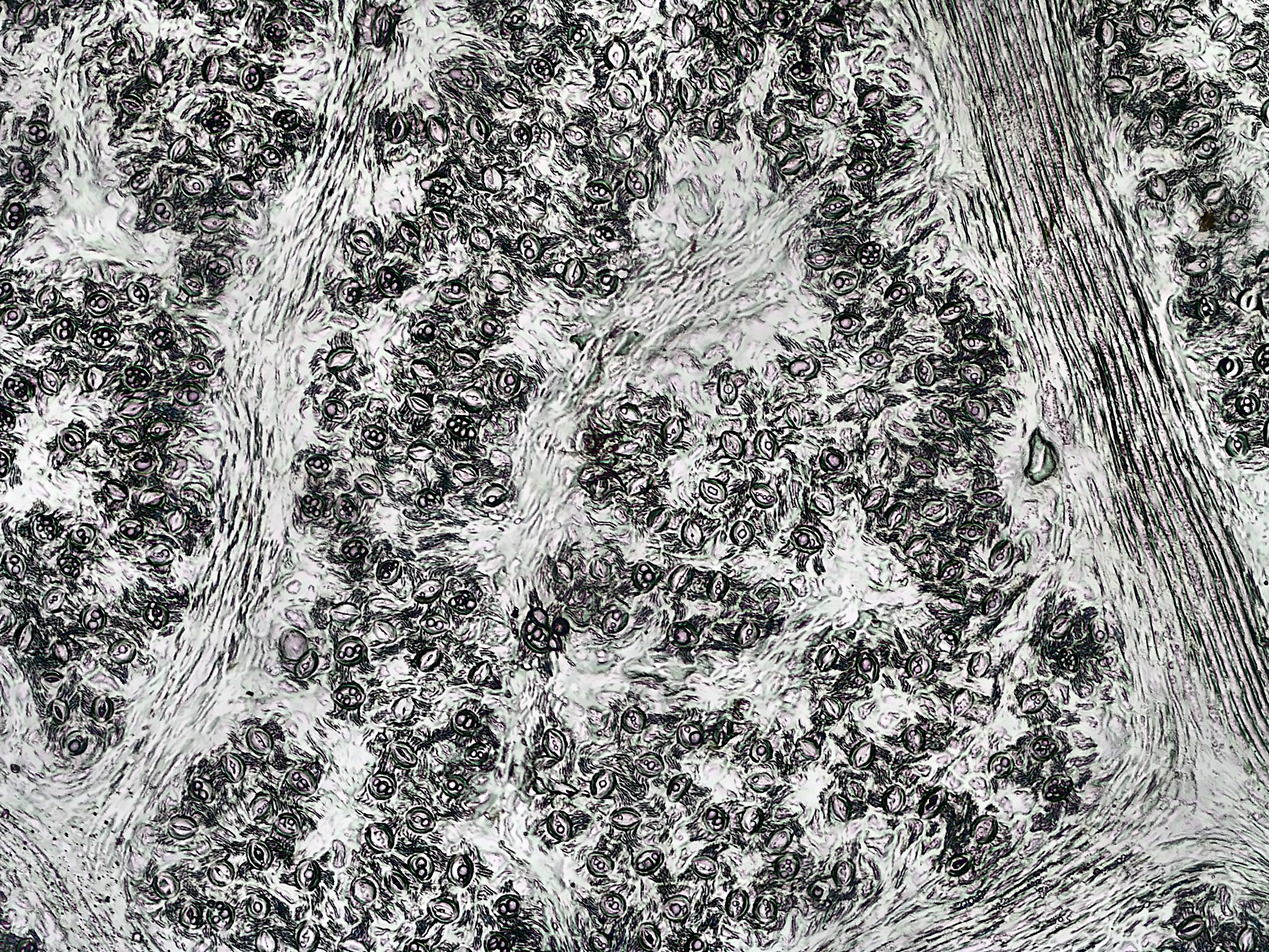stomata: (334, 636, 366, 667), (447, 852, 474, 887), (330, 682, 363, 710), (789, 527, 823, 554), (78, 603, 107, 634), (375, 267, 403, 299), (87, 324, 120, 351), (293, 859, 320, 892), (426, 897, 460, 923), (672, 13, 697, 48), (364, 822, 393, 852), (633, 847, 664, 875), (603, 38, 630, 70), (285, 767, 317, 794), (919, 787, 946, 819), (246, 838, 272, 871), (608, 807, 642, 832), (643, 103, 671, 133), (332, 494, 360, 524), (831, 312, 866, 336), (121, 364, 152, 391), (546, 810, 573, 841), (1043, 774, 1074, 801), (84, 291, 113, 319), (406, 853, 435, 881), (1209, 12, 1237, 41), (590, 769, 617, 799), (855, 241, 885, 268), (516, 234, 542, 265), (820, 194, 852, 219), (815, 16, 848, 40), (58, 427, 86, 455), (526, 56, 554, 84), (207, 859, 235, 887), (367, 773, 396, 800), (451, 708, 480, 735), (970, 815, 997, 844), (905, 652, 935, 678), (438, 279, 469, 304), (855, 386, 880, 417), (582, 179, 614, 203), (725, 888, 749, 920), (902, 724, 926, 756), (753, 428, 777, 460), (458, 385, 486, 412), (372, 5, 390, 47), (246, 728, 273, 756), (663, 895, 690, 923), (10, 156, 36, 185), (340, 536, 369, 562), (496, 367, 521, 397), (301, 491, 326, 521), (634, 752, 664, 777), (855, 653, 880, 683), (859, 348, 893, 370), (425, 115, 449, 146), (809, 88, 833, 119), (173, 382, 205, 405), (508, 119, 531, 151), (959, 333, 991, 356), (846, 157, 878, 180), (1229, 46, 1261, 69), (48, 316, 76, 342), (30, 513, 56, 541), (153, 872, 181, 898), (389, 742, 417, 768), (703, 805, 729, 833), (406, 807, 434, 833), (204, 902, 232, 928), (677, 722, 705, 748), (563, 256, 585, 289), (593, 268, 618, 297), (416, 488, 445, 513), (293, 650, 318, 679), (586, 851, 615, 876), (1029, 736, 1058, 761), (1160, 66, 1189, 91), (326, 347, 356, 371), (167, 814, 197, 838), (850, 740, 874, 770), (698, 479, 728, 503), (827, 271, 857, 295), (385, 112, 408, 143), (669, 563, 692, 594), (989, 540, 1012, 571), (35, 368, 61, 395), (752, 896, 778, 923), (108, 638, 136, 663), (491, 893, 519, 918), (826, 794, 851, 822), (735, 621, 760, 649), (884, 282, 912, 307), (186, 353, 215, 377), (563, 123, 592, 147), (690, 854, 719, 878), (881, 784, 905, 813), (763, 828, 792, 852), (1176, 916, 1205, 940), (1190, 136, 1219, 160), (328, 602, 361, 623), (1095, 16, 1116, 49), (950, 688, 973, 718), (667, 620, 697, 643), (936, 301, 966, 324), (803, 248, 834, 270), (1179, 116, 1213, 136), (245, 892, 271, 918), (145, 601, 170, 628), (414, 647, 441, 672), (619, 706, 644, 733), (382, 869, 409, 894), (774, 854, 799, 881), (920, 499, 947, 524), (859, 84, 884, 111), (206, 254, 234, 278), (226, 176, 254, 200), (625, 170, 649, 198), (477, 316, 505, 340), (89, 694, 113, 722), (189, 776, 213, 804), (544, 728, 565, 760), (720, 430, 744, 458), (750, 484, 778, 508), (962, 397, 990, 421), (704, 108, 725, 140), (1180, 254, 1212, 275), (304, 454, 333, 477), (3, 551, 26, 580), (767, 115, 790, 144), (708, 66, 731, 95), (117, 396, 147, 418), (198, 212, 228, 234), (707, 572, 729, 602), (717, 371, 737, 404), (776, 152, 806, 174), (1100, 75, 1133, 95), (144, 544, 175, 565), (914, 356, 935, 387), (854, 130, 885, 151), (24, 119, 50, 144), (361, 424, 387, 449), (608, 134, 634, 159), (609, 83, 634, 109), (125, 280, 149, 307), (338, 278, 362, 305), (349, 231, 376, 255), (239, 64, 263, 91), (667, 774, 691, 801), (832, 860, 856, 887), (1020, 690, 1047, 714), (633, 563, 657, 590), (862, 487, 889, 511), (928, 405, 955, 429), (1225, 431, 1249, 458), (678, 75, 697, 109), (972, 488, 1006, 507), (167, 135, 190, 163), (819, 448, 847, 471), (1198, 81, 1221, 109), (412, 580, 444, 600), (110, 427, 139, 449), (484, 271, 513, 293), (982, 589, 1004, 618), (682, 521, 704, 550), (735, 36, 756, 66), (1, 202, 26, 227), (601, 609, 626, 634), (988, 752, 1013, 777), (1195, 297, 1220, 322), (1216, 355, 1241, 380), (321, 397, 347, 421), (451, 66, 477, 90), (504, 6, 530, 30), (377, 559, 401, 585), (1048, 612, 1072, 638), (646, 507, 670, 533), (1133, 10, 1157, 36), (1167, 4, 1193, 28), (150, 198, 173, 225), (479, 485, 510, 505), (15, 621, 35, 652), (355, 475, 383, 497), (739, 805, 761, 833), (958, 363, 986, 385), (466, 116, 487, 145), (517, 197, 546, 218), (224, 753, 245, 782), (907, 456, 936, 477), (201, 54, 221, 84), (468, 227, 493, 251), (275, 813, 301, 836), (351, 877, 377, 900), (967, 652, 990, 678), (730, 519, 753, 545), (938, 560, 964, 583), (885, 503, 908, 529), (482, 165, 504, 192), (56, 555, 83, 577), (903, 534, 930, 556), (1147, 107, 1166, 138), (662, 416, 683, 444), (128, 453, 156, 474), (639, 923, 660, 951), (16, 2, 40, 26), (391, 696, 414, 721), (749, 738, 772, 763), (1236, 288, 1259, 313), (141, 62, 163, 88), (1234, 394, 1260, 416), (420, 615, 450, 634), (955, 522, 985, 541), (116, 96, 144, 116), (166, 507, 186, 535), (36, 284, 59, 308), (179, 905, 203, 928), (797, 737, 820, 761), (406, 442, 435, 461), (713, 717, 732, 746), (178, 272, 203, 294), (429, 207, 454, 229), (118, 517, 143, 539), (248, 795, 270, 820), (440, 774, 465, 796), (468, 659, 490, 684), (601, 894, 626, 916), (815, 645, 837, 670), (406, 394, 432, 415), (273, 110, 299, 131), (70, 525, 96, 546), (129, 169, 153, 191), (259, 146, 283, 168), (1146, 176, 1168, 200), (151, 328, 176, 349), (180, 175, 205, 196), (748, 771, 773, 792), (946, 854, 971, 875), (1201, 182, 1226, 203), (398, 223, 421, 245), (411, 320, 434, 342), (822, 696, 844, 719), (499, 87, 523, 108), (146, 419, 170, 440), (42, 588, 63, 612), (552, 561, 573, 585), (454, 463, 479, 483), (784, 402, 803, 428), (589, 558, 611, 580), (373, 621, 396, 642), (616, 404, 641, 423), (410, 358, 436, 376), (463, 742, 485, 763), (813, 492, 833, 515), (84, 367, 103, 391), (39, 670, 63, 689), (50, 698, 68, 722), (139, 489, 164, 506), (105, 481, 127, 500), (770, 8, 792, 27), (452, 351, 476, 367), (52, 638, 68, 660)
